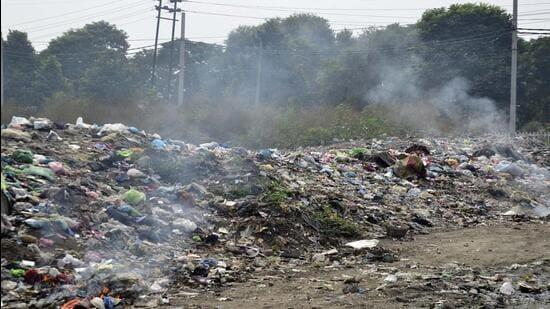trash: (0, 116, 550, 309)
